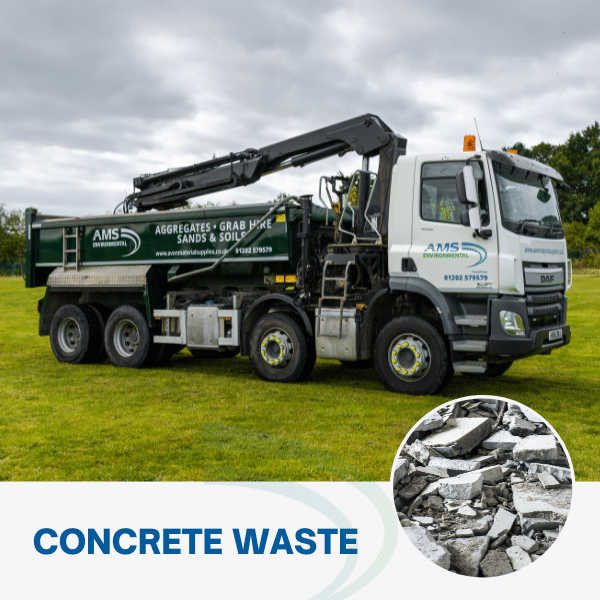truck: (24, 113, 572, 395)
